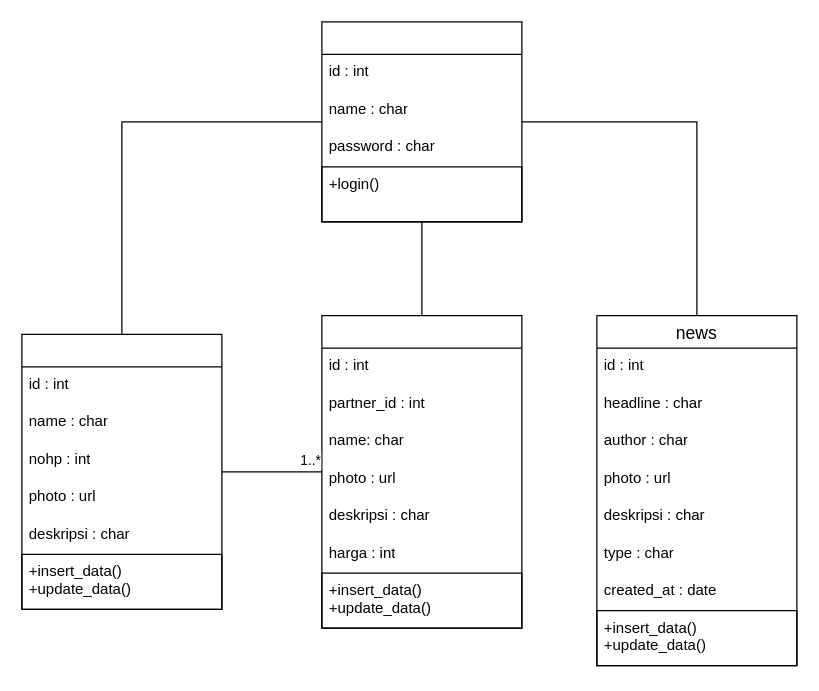
This 819x691 diagram has some shape labels left out. The box of each missing label's shape, as (x1, y1, x2, y2) in pixels:
admin: (321, 21, 522, 222)
menus: (321, 314, 522, 628)
partners: (21, 333, 222, 609)
